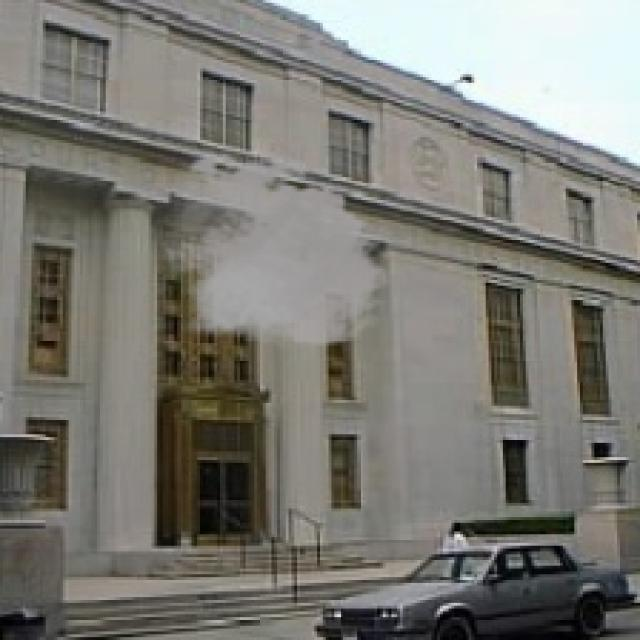Smoke: (148, 146, 398, 354)
